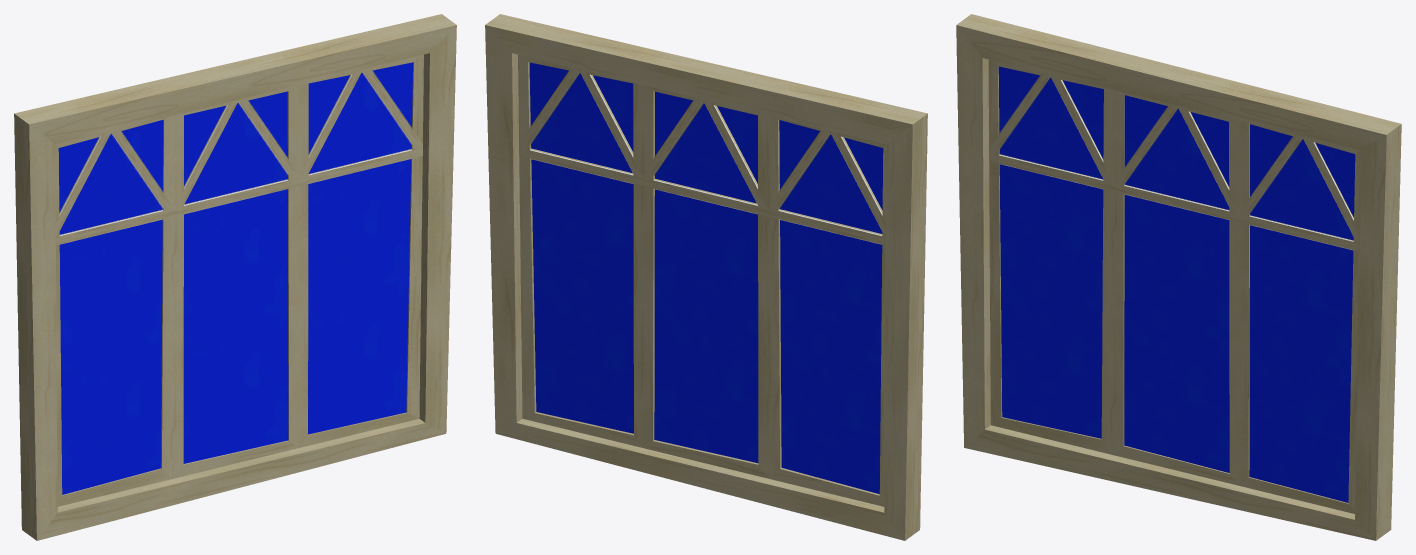
File: window.fbx
The picture shows the model from 3 angles, left to right: view 1: azimuth 30°, elevation 25°; view 2: azimuth 150°, elevation 25°; view 3: azimuth 330°, elevation 25°; orthographic projection.
Parts seen in each view (by area): view 1: Object_2, Object_3, Object_5, Object_4; view 2: Object_2, Object_3, Object_5, Object_4; view 3: Object_2, Object_3, Object_5, Object_4.
Boxes of the visible parts, x1,y1,x2,y2 form: Object_2: [58, 62, 413, 494]; Object_3: [14, 14, 456, 540]; Object_5: [55, 68, 422, 245]; Object_4: [59, 73, 411, 236]; Object_2: [529, 62, 883, 493]; Object_3: [485, 14, 927, 540]; Object_5: [519, 68, 886, 245]; Object_4: [530, 72, 882, 236]; Object_2: [998, 66, 1355, 502]; Object_3: [956, 14, 1401, 540]; Object_5: [989, 72, 1358, 250]; Object_4: [999, 77, 1353, 241].
Bounding box in the file's own units: 1438 × 1344 × 87.91.
Materials: 4 (3 with a texture image).
